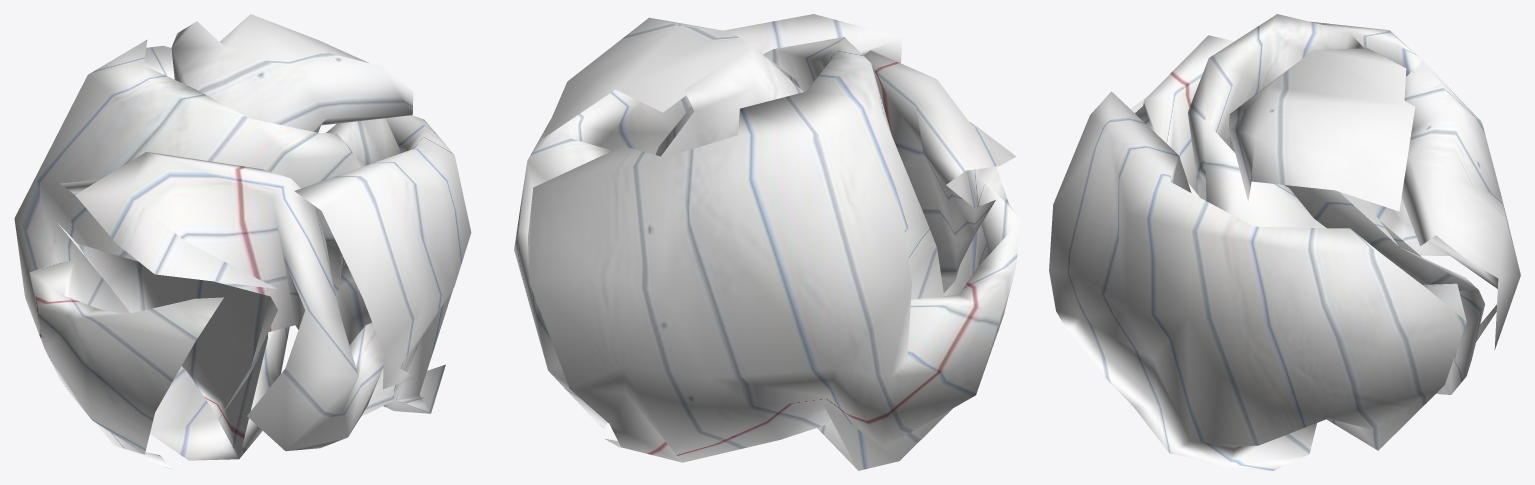
The model's file is cage_paper.glb.
The picture shows the model from 3 angles, left to right: view 1: azimuth 30°, elevation 25°; view 2: azimuth 150°, elevation 25°; view 3: azimuth 270°, elevation 25°; orthographic projection. The views are drawn at different scales.
Parts seen in each view (by area): view 1: cage_paper; view 2: cage_paper; view 3: cage_paper.
Boxes of the visible parts, x1,y1,x2,y2 form: cage_paper: [14, 14, 471, 470]; cage_paper: [514, 14, 1020, 470]; cage_paper: [1049, 14, 1520, 470].
Bounding box in the file's own units: 1.09 × 0.9979 × 1.11.
Materials: 1 (1 with a texture image).
